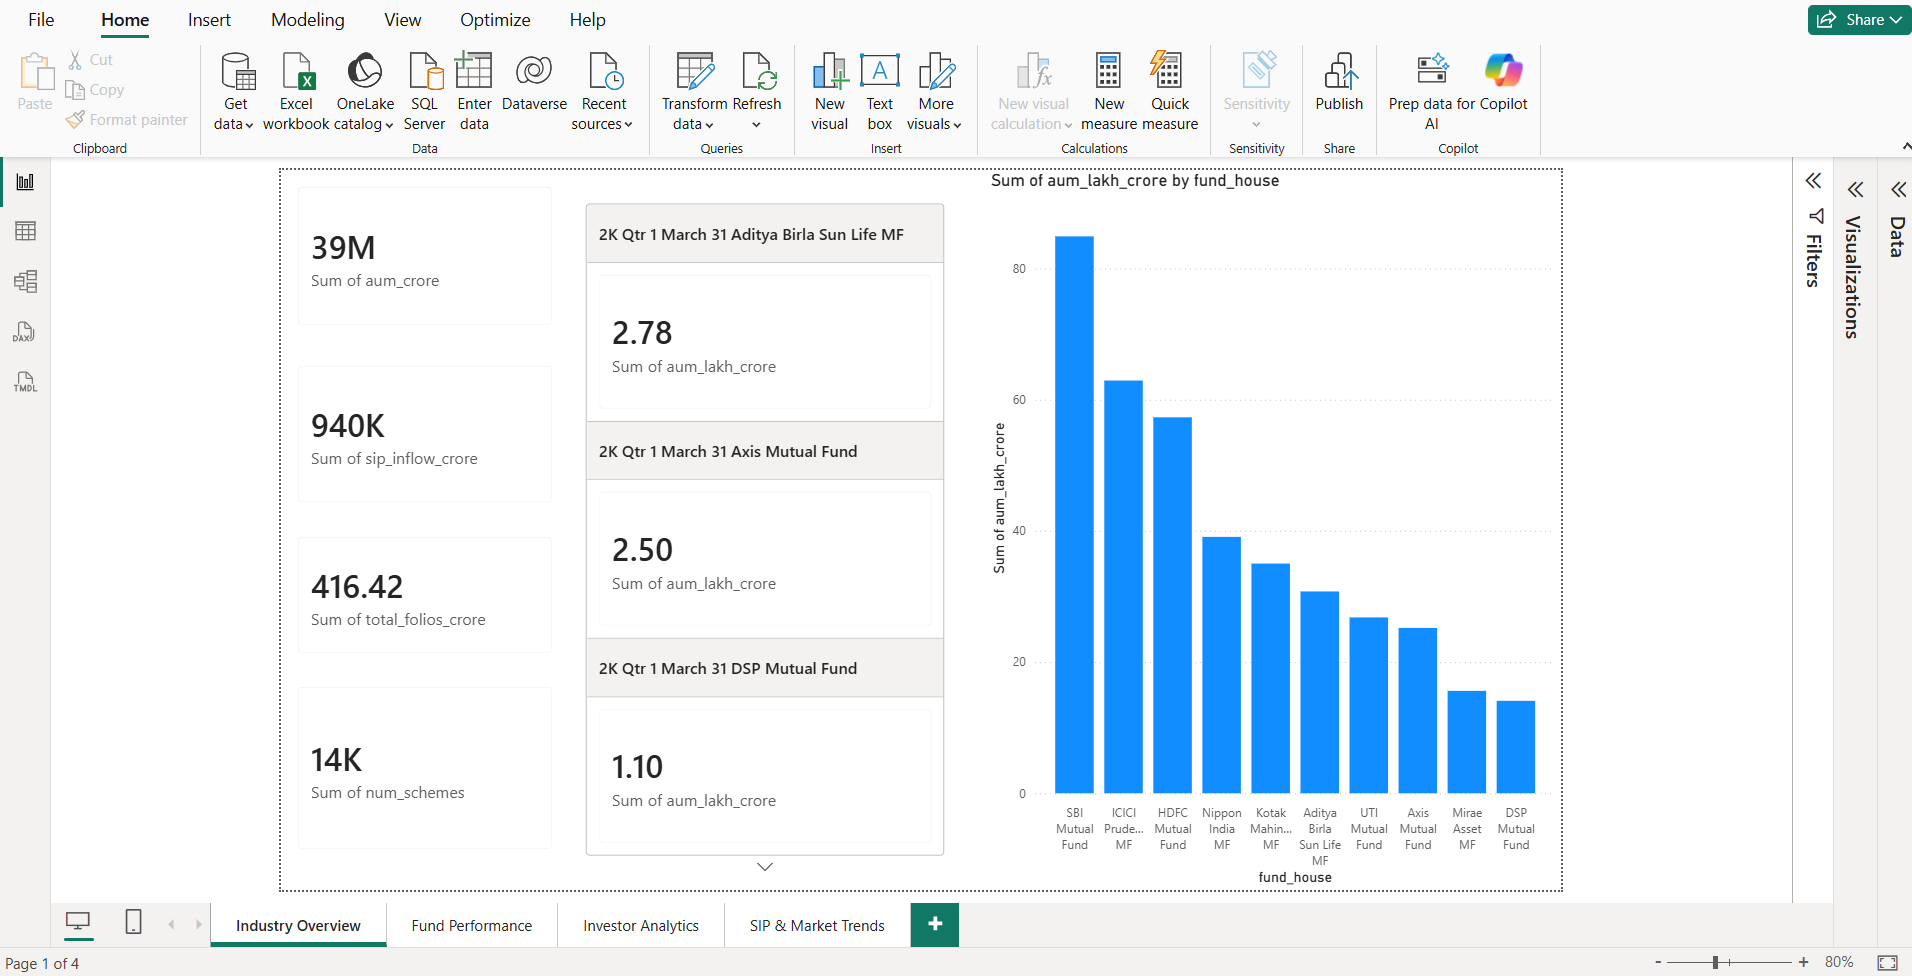

This screenshot's page, from the dashboard's own definition file:
{"tool":"powerbi","page":{"name":"Industry Overview","canvas":[1280,720],"ordinal":0},"visuals":[{"type":"cardVisual","fields":{"Data":["Sum(03_aum_by_fund_house.aum_crore)","Sum(03_aum_by_fund_house.aum_crore)"]},"box":[0,0,288.6,172.4],"z":0},{"type":"cardVisual","fields":{"Data":["Sum(04_monthly_sip_inflows.sip_inflow_crore)"]},"box":[0,178.5,288.6,171.2],"z":1000},{"type":"cardVisual","fields":{"Data":["Sum(06_industry_folio_count.total_folios_crore)"]},"box":[0,349.7,288.6,150.4],"z":2000},{"type":"cardVisual","fields":{"Data":["Sum(03_aum_by_fund_house.num_schemes)"]},"box":[0,500.1,288.6,196.9],"z":3000},{"type":"cardVisual","fields":{"Rows":["03_aum_by_fund_house.date.Variation.Date Hierarchy.Year","03_aum_by_fund_house.date.Variation.Date Hierarchy.Quarter","03_aum_by_fund_house.date.Variation.Date Hierarchy.Month","03_aum_by_fund_house.date.Variation.Date Hierarchy.Day","03_aum_by_fund_house.fund_house"],"Data":["Sum(03_aum_by_fund_house.aum_lakh_crore)"]},"box":[299.6,8.6,368.1,703.1],"z":4000},{"type":"clusteredColumnChart","fields":{"Y":["Sum(03_aum_by_fund_house.aum_lakh_crore)"],"Category":["03_aum_by_fund_house.fund_house"]},"box":[705.6,0,574.7,720.2],"z":5000}]}

Visuals, with their boxes on the page's 1280x720 design canvas (x1, y1, x2, y2). These are canvas units, not pixel positions in the 1912x976 screenshot, which may show the page scaled, cropped or inside an application window:
cardVisual - Sum(03_aum_by_fund_house.aum_crore) x Sum(03_aum_by_fund_house.aum_crore): [0,0,289,172]
cardVisual - Sum(04_monthly_sip_inflows.sip_inflow_crore): [0,178,289,350]
cardVisual - Sum(06_industry_folio_count.total_folios_crore): [0,350,289,500]
cardVisual - Sum(03_aum_by_fund_house.num_schemes): [0,500,289,697]
cardVisual - 03_aum_by_fund_house.date.Variation.Date Hierarchy.Year x 03_aum_by_fund_house.date.Variation.Date Hierarchy.Quarter: [300,9,668,712]
clusteredColumnChart - Sum(03_aum_by_fund_house.aum_lakh_crore) x 03_aum_by_fund_house.fund_house: [706,0,1280,720]
